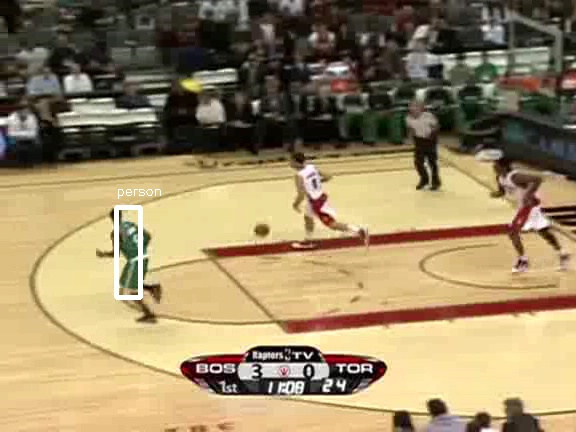person: (119, 212, 153, 293), (118, 212, 152, 293), (120, 212, 154, 293), (119, 211, 153, 292), (119, 213, 153, 294)
target_negative: (50, 150, 215, 424), (402, 63, 504, 413), (160, 235, 467, 348), (460, 126, 549, 148), (337, 423, 476, 429), (533, 367, 558, 382)
